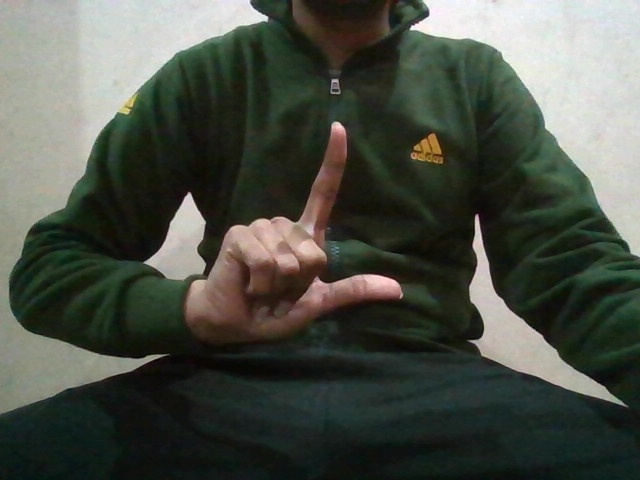L: (200, 117, 405, 339)
